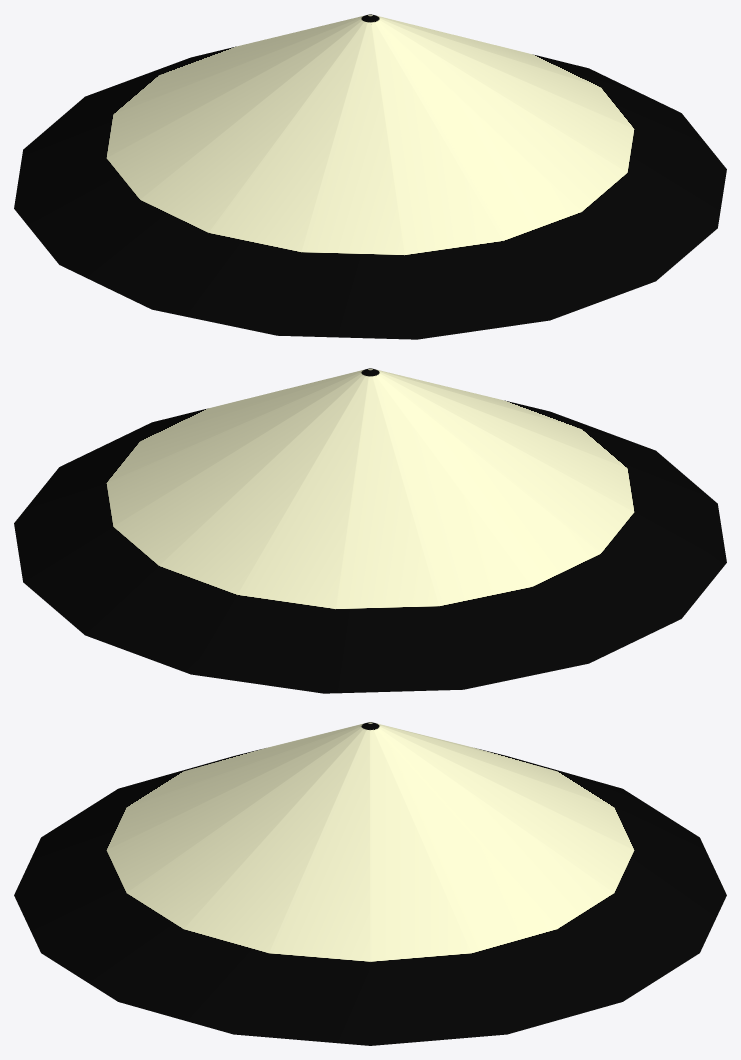
The model's file is ceiling_lamp_mp_1_1_fake_light_2.obj.
The picture shows the model from 3 angles, top to bottom: view 1: azimuth 30°, elevation 25°; view 2: azimuth 150°, elevation 25°; view 3: azimuth 270°, elevation 25°; orthographic projection.
Parts seen in each view (by area): view 1: ceiling_lamp_mp_1_1_fake_light_2; view 2: ceiling_lamp_mp_1_1_fake_light_2; view 3: ceiling_lamp_mp_1_1_fake_light_2.
Boxes of the visible parts, x1,y1,x2,y2 form: ceiling_lamp_mp_1_1_fake_light_2: (14, 14, 726, 339); ceiling_lamp_mp_1_1_fake_light_2: (14, 368, 726, 693); ceiling_lamp_mp_1_1_fake_light_2: (14, 722, 726, 1045).
Bounding box in the file's own units: 9 × 2.4 × 9.
